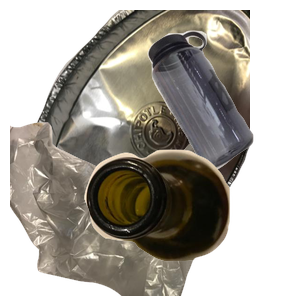glass: (82, 147, 300, 300)
metal: (18, 10, 258, 190)
plastic: (145, 28, 300, 192)
trash: (10, 120, 231, 300)
